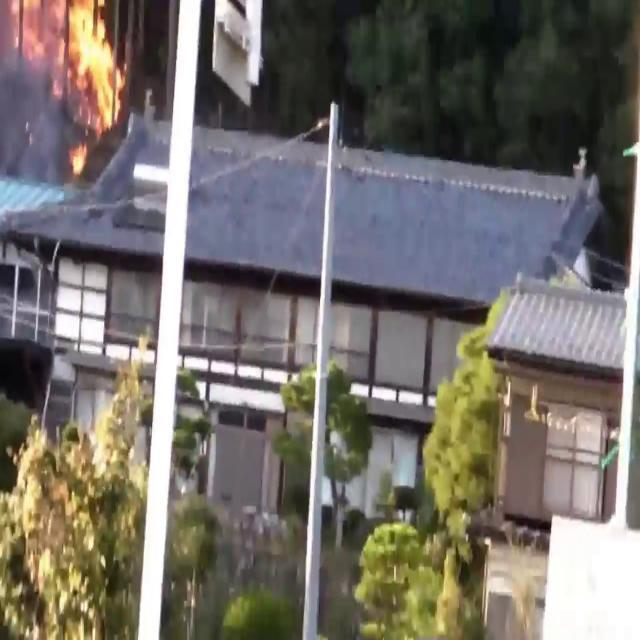Fire: (29, 0, 129, 155)
